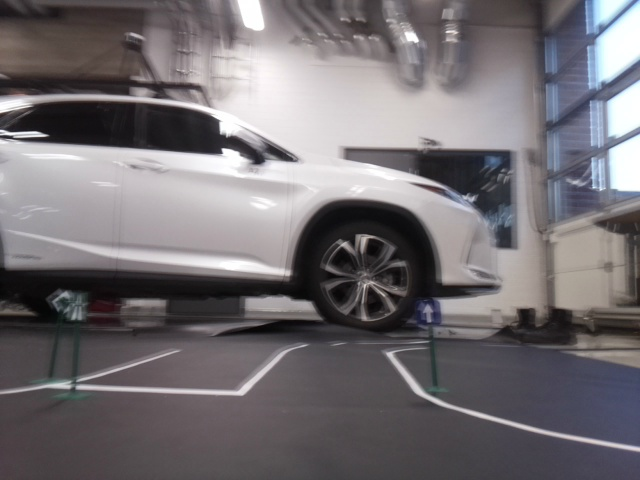OneWay: (417, 303, 441, 325)
